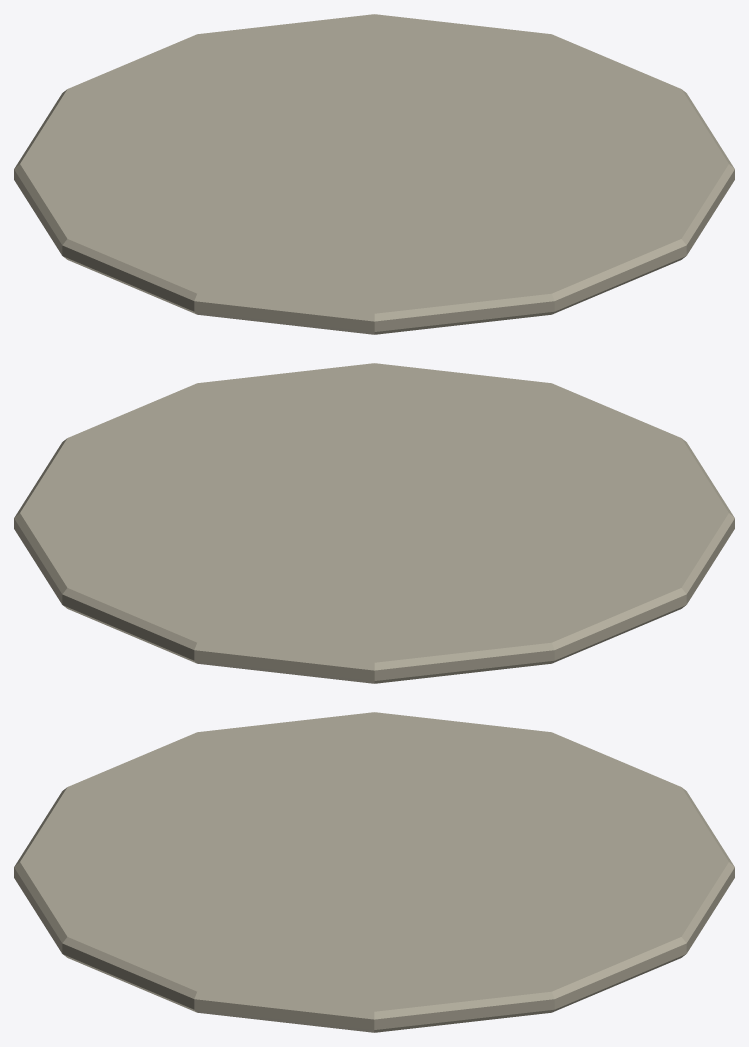
File: victorian_curved_roof_1.fbx
3 views of the same model, one above another, from view 1: azimuth 30°, elevation 25°; view 2: azimuth 150°, elevation 25°; view 3: azimuth 270°, elevation 25° (orthographic).
Visible parts, largest first — view 1: Cylinder.010; view 2: Cylinder.010; view 3: Cylinder.010.
Boxes of the visible parts, x1,y1,x2,y2 form: Cylinder.010: (14,14,734,334); Cylinder.010: (14,363,734,683); Cylinder.010: (14,712,734,1032).
Bounding box in the file's own units: 620 × 20 × 620.
